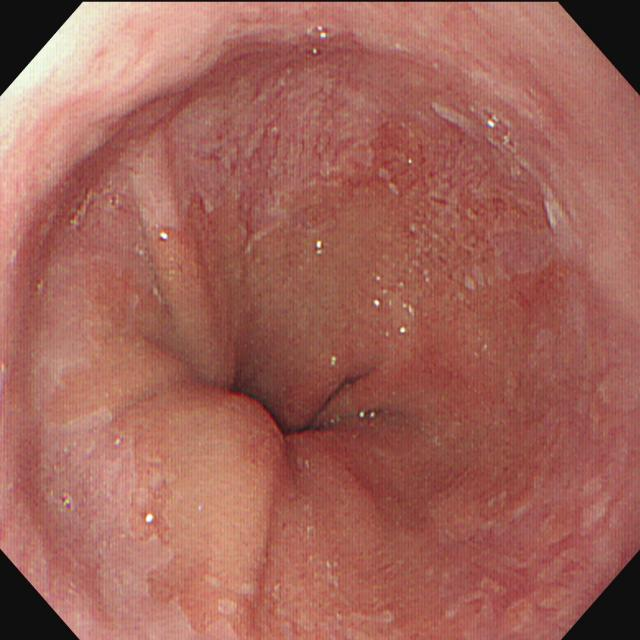D: (347, 92, 462, 215)
I: (163, 295, 412, 497)
T: (484, 111, 511, 148)
U: (157, 229, 172, 246), (314, 239, 327, 256), (145, 512, 157, 526)
